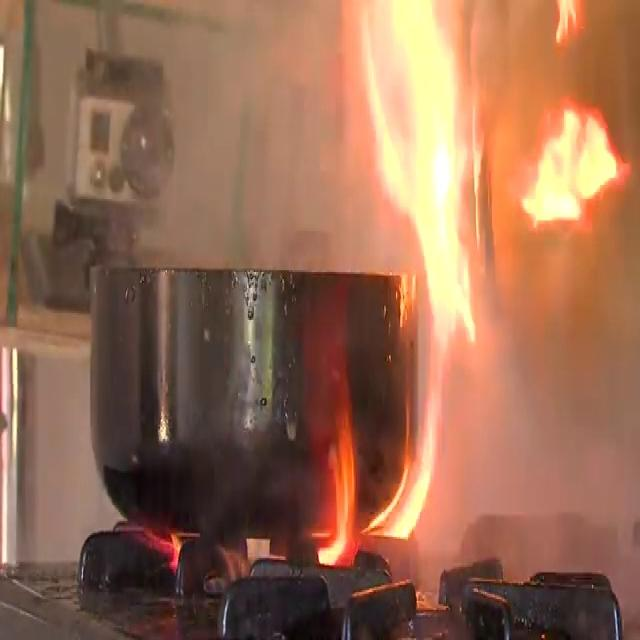fire: (341, 0, 634, 569), (123, 510, 449, 598)
